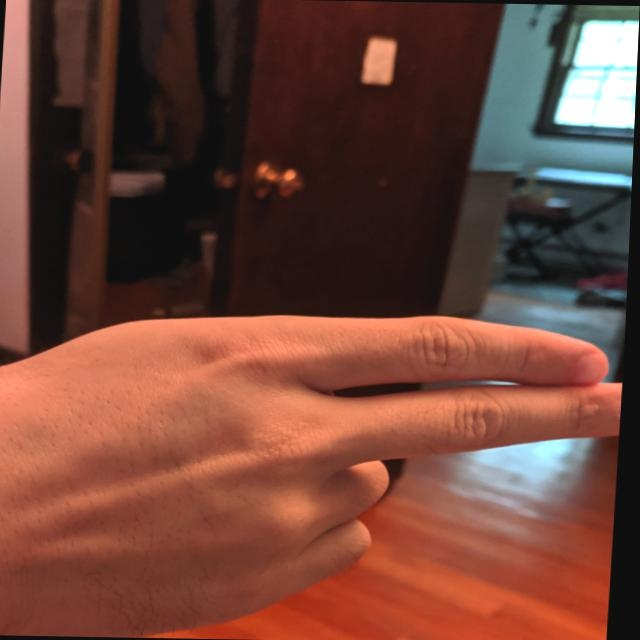H: (0, 297, 629, 639)
